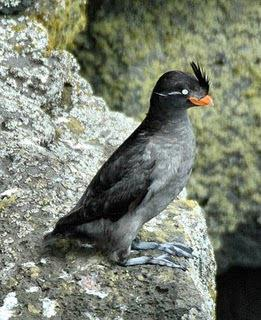005.Crested_Auklet: (42, 61, 216, 275)
